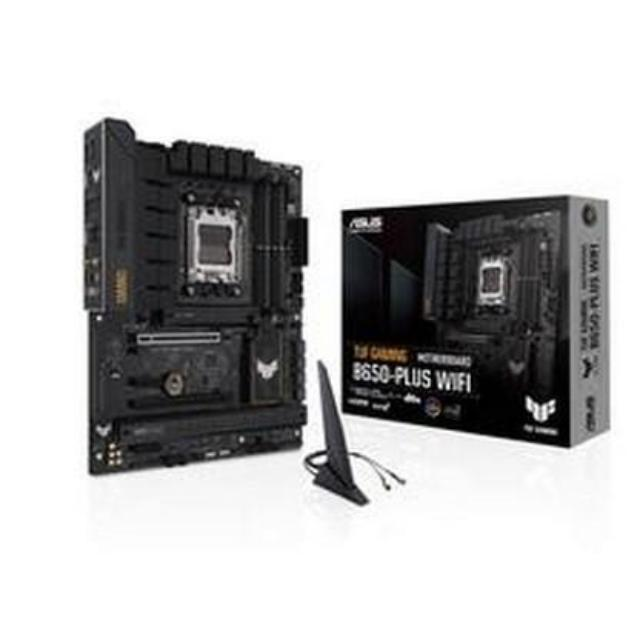Mainboard: (73, 112, 313, 472)
